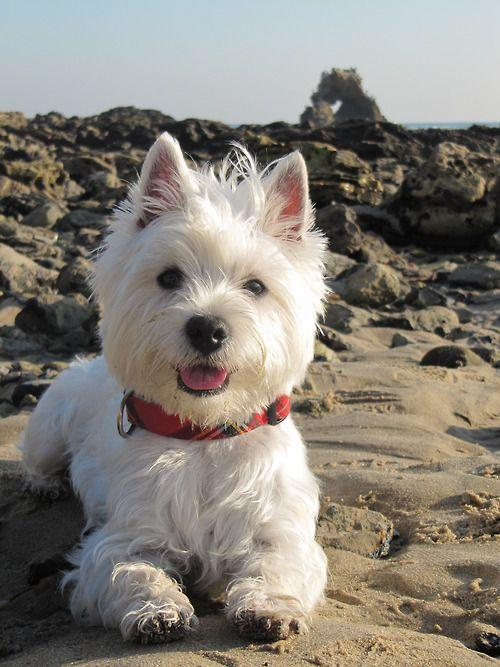dog: (23, 133, 325, 641)
